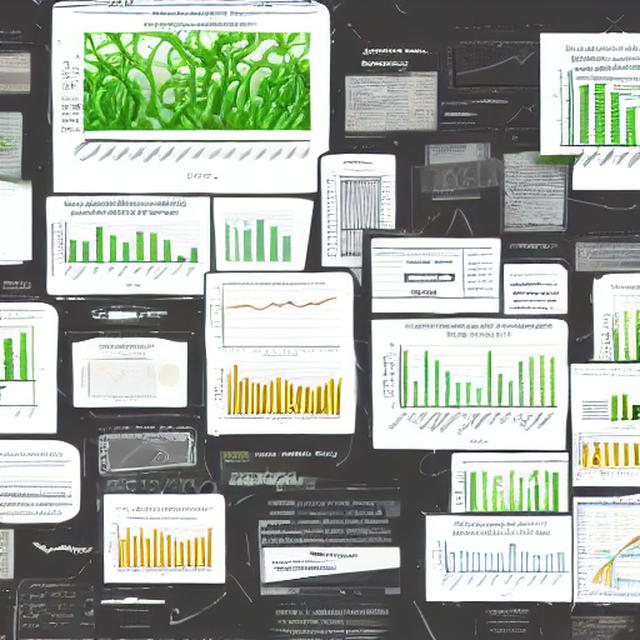Graph: (378, 320, 562, 448), (48, 199, 203, 291), (428, 517, 570, 599), (206, 279, 343, 361), (105, 513, 218, 579), (442, 38, 540, 97), (81, 357, 159, 404)
